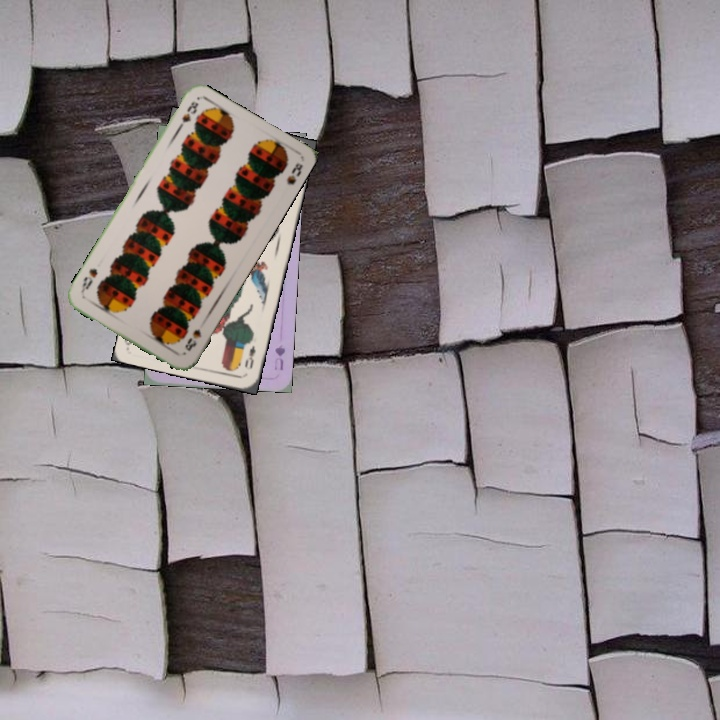EO: (240, 335, 258, 371)
GU: (270, 340, 287, 373)
S8: (173, 97, 201, 133), (181, 325, 204, 354)
